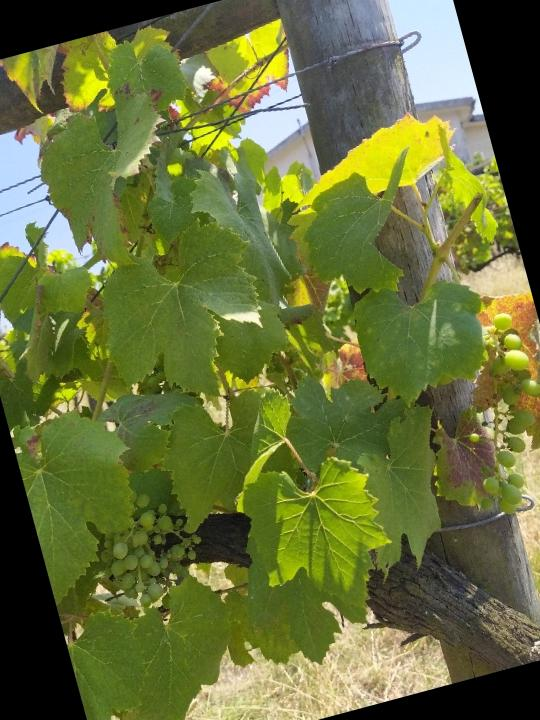grape: (436, 307, 540, 520), (83, 479, 218, 627)
